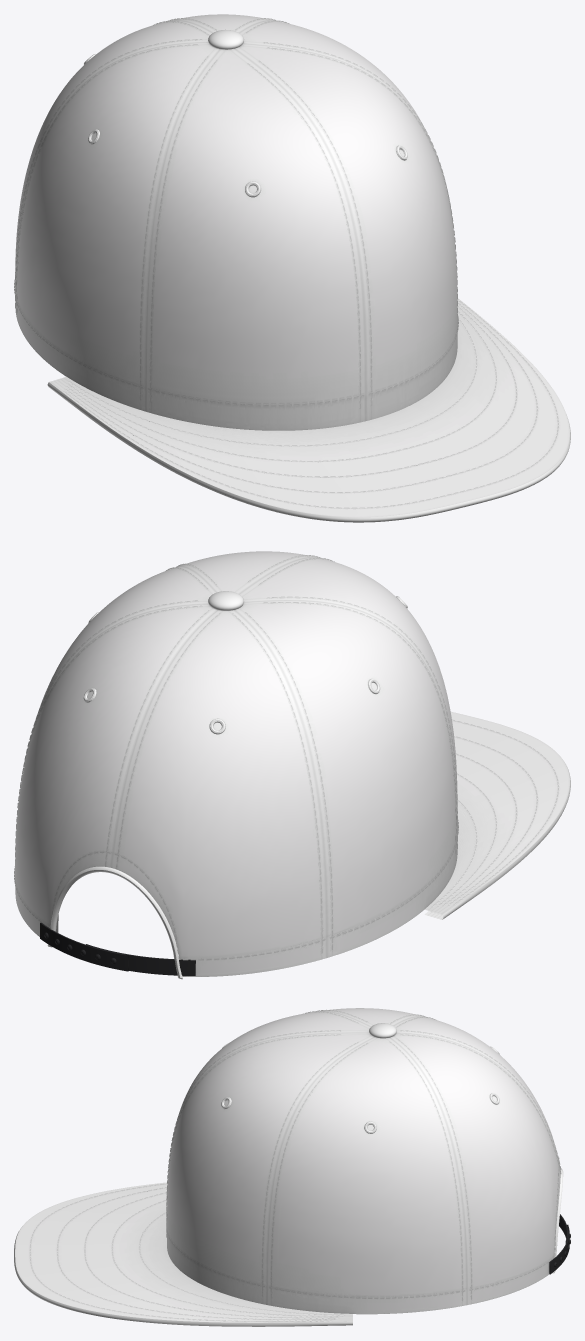
File: aba-reta.glb
3 renders of one model, top to bottom at view 1: azimuth 30°, elevation 25°; view 2: azimuth 150°, elevation 25°; view 3: azimuth 270°, elevation 25°, orthographic. The views are drawn at different scales.
Visible parts, largest first — view 1: frente, laterais, aba, costura-aba, traseira, aba__beirada, costura-frente, costura-laterais, costura-traseira; view 2: traseira, laterais, aba, frente, costura-traseira, fixo__regulador, costura-aba, costura-laterais, traseira__vies, costura-frente, aba__beirada, botao; view 3: laterais, frente, traseira, aba, costura-aba, aba__beirada, costura-frente, costura-laterais, costura-traseira, fixo__regulador.
Boxes of the visible parts, x1,y1,x2,y2 form: frente: (146, 43, 457, 430); laterais: (16, 20, 442, 411); aba: (49, 298, 569, 517); costura-aba: (64, 299, 559, 508); traseira: (15, 14, 273, 316); aba__beirada: (47, 382, 570, 522); costura-frente: (148, 47, 458, 408); costura-laterais: (16, 20, 452, 398); costura-traseira: (14, 18, 275, 308); traseira: (15, 604, 326, 976); laterais: (25, 566, 456, 957); aba: (424, 711, 569, 914); frente: (178, 551, 457, 862); costura-traseira: (14, 605, 325, 960); fixo__regulador: (40, 922, 195, 975); costura-aba: (432, 719, 559, 906); costura-laterais: (18, 567, 457, 949); traseira__vies: (47, 866, 182, 979); costura-frente: (176, 555, 458, 848); aba__beirada: (442, 763, 570, 919); botao: (208, 591, 243, 610); laterais: (267, 1008, 466, 1314); frente: (167, 1011, 373, 1304); traseira: (390, 1016, 560, 1304); aba: (15, 1182, 352, 1322); costura-aba: (29, 1183, 343, 1321); aba__beirada: (14, 1231, 352, 1326); costura-frente: (166, 1011, 358, 1295); costura-laterais: (269, 1009, 465, 1300); costura-traseira: (396, 1016, 561, 1299); fixo__regulador: (549, 1214, 570, 1274).
Size of the model in its own units: 1.77 by 1.28 by 2.79.
11 materials, 6 textured.
